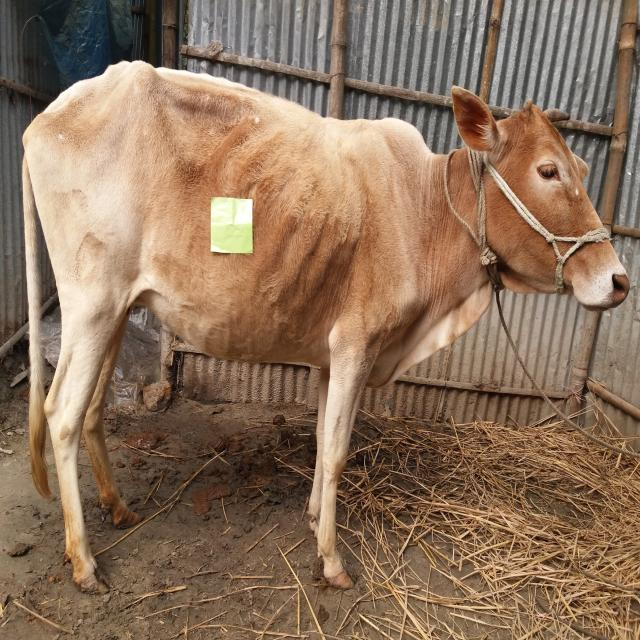badan_sapi: (25, 107, 376, 387)
sapi: (14, 53, 634, 596)
